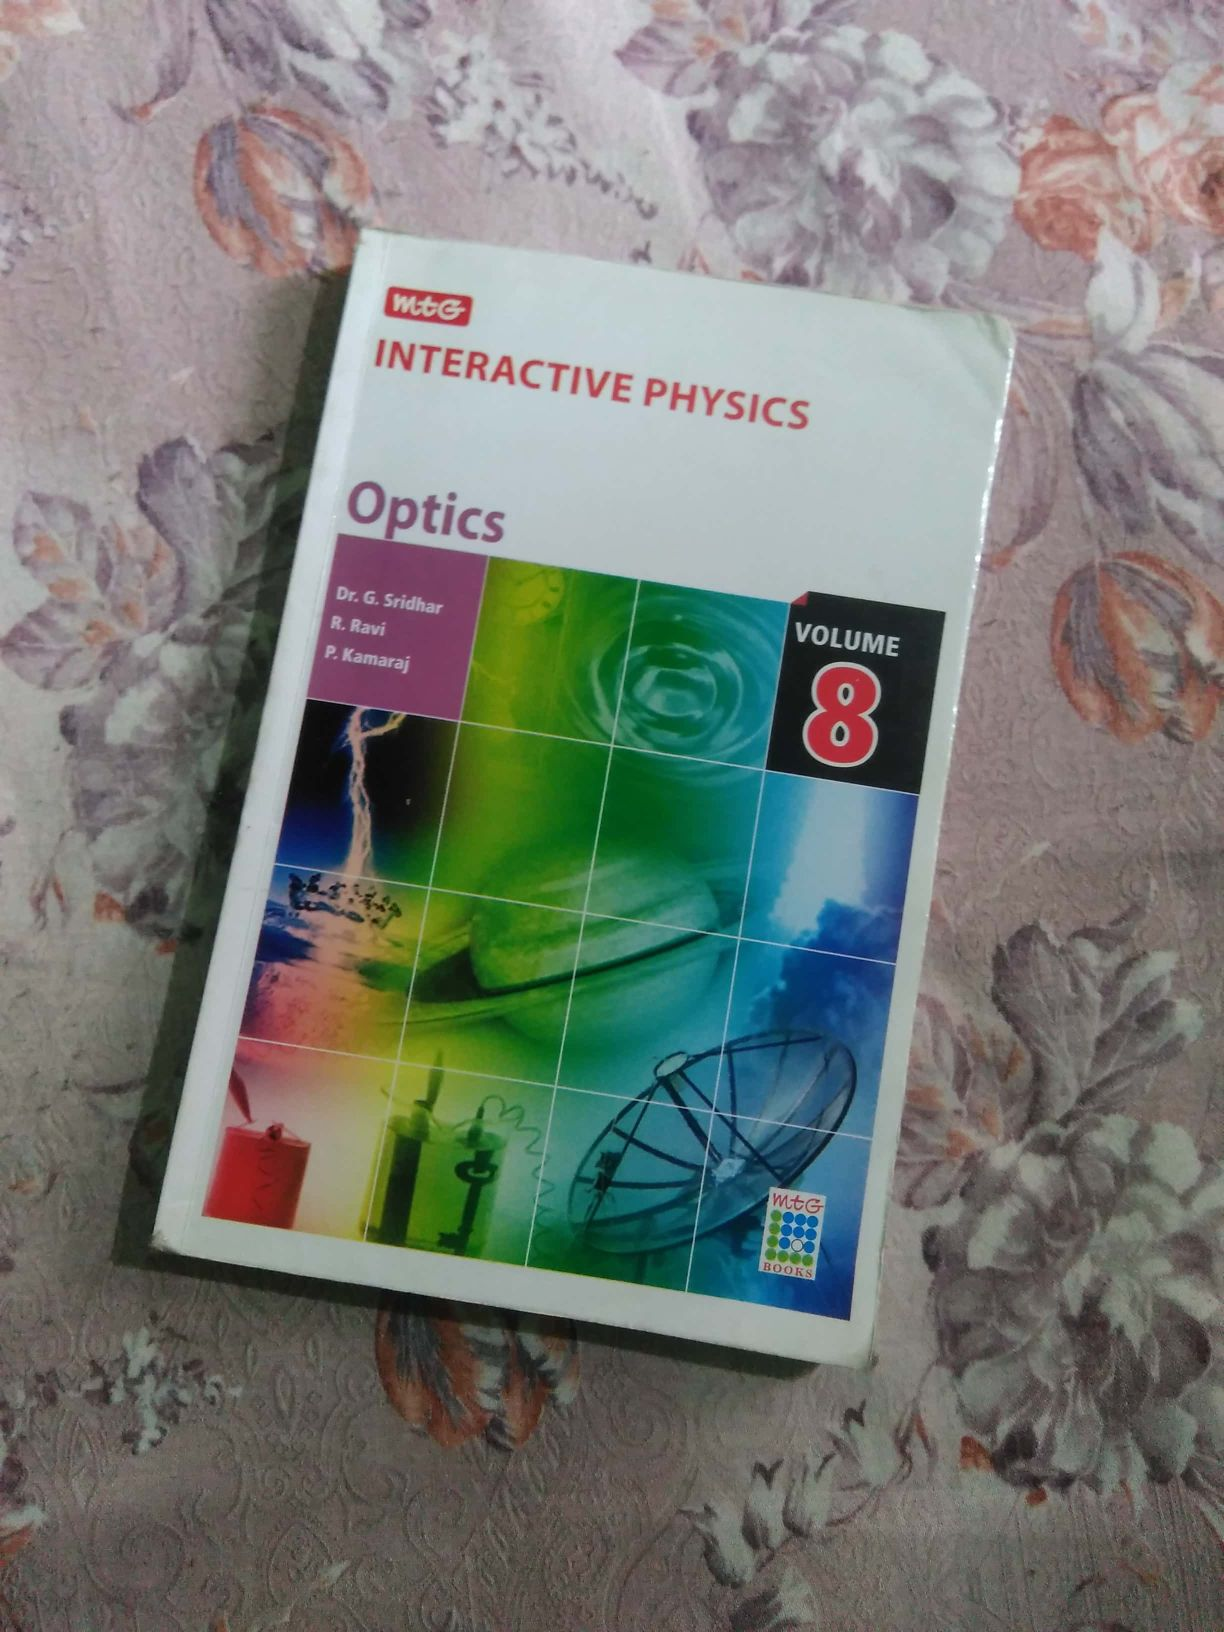optics: (183, 207, 1014, 1385)
